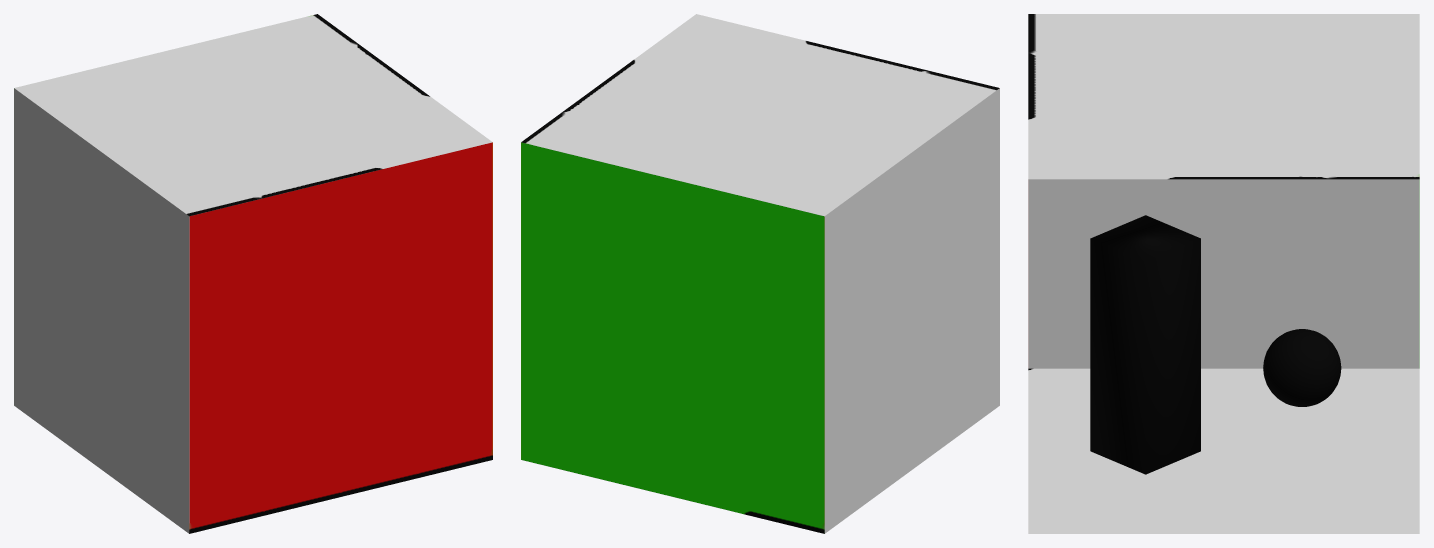
File: Cornellbox.gltf
The picture shows the model from 3 angles, left to right: view 1: azimuth 30°, elevation 25°; view 2: azimuth 150°, elevation 25°; view 3: azimuth 270°, elevation 25°; orthographic projection. The views are drawn at different scales.
Parts seen in each view (by area): view 1: Cube; view 2: Cube; view 3: Cube, Cube.001, Sphere.
Boxes of the visible parts, x1=… form: Cube: x1=14, y1=14, x2=492, y2=533; Cube: x1=521, y1=14, x2=999, y2=533; Cube: x1=1028, y1=14, x2=1419, y2=533; Cube.001: x1=1090, y1=215, x2=1200, y2=474; Sphere: x1=1263, y1=329, x2=1341, y2=406.
Size of the model in its own units: 10 by 10 by 10.
Materials: 1 (1 with a texture image).
